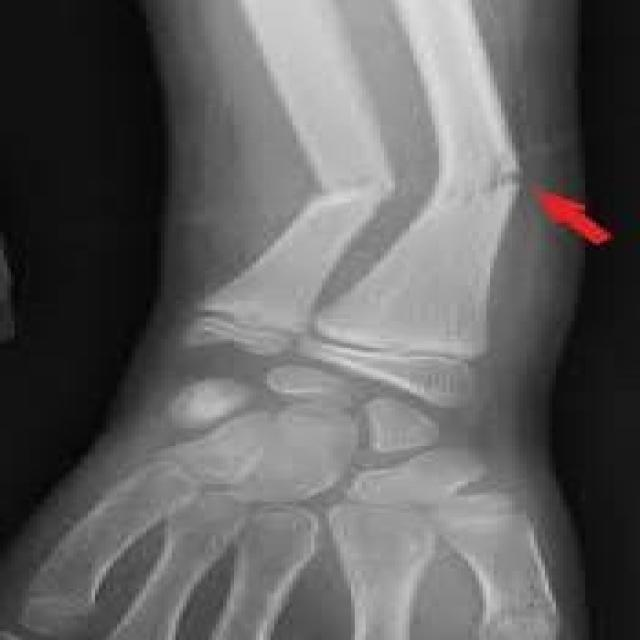bone: (266, 122, 562, 252)
